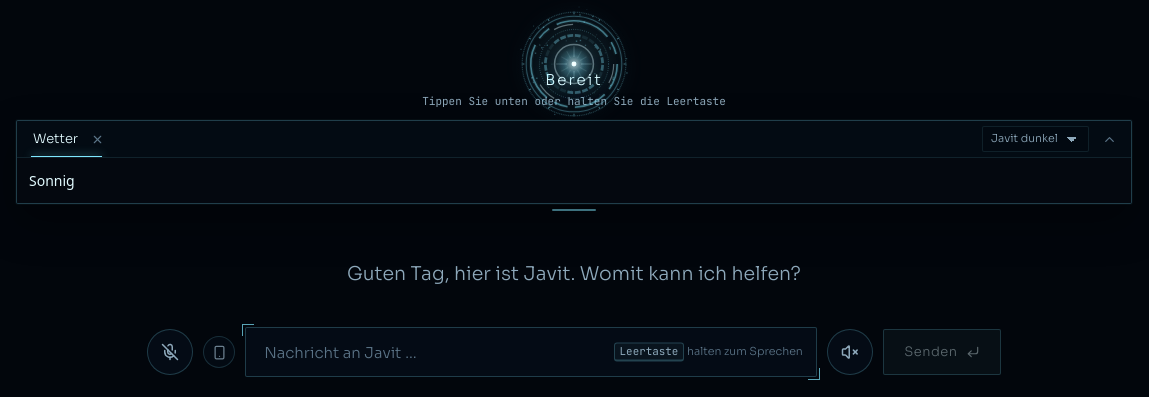
Bühne in der Konsole › einklappen blendet den Inhalt aus, Reiter bleiben
Click the button named "Bühne einklappen": [1107, 139] box left=1095, top=127, right=1119, bottom=151
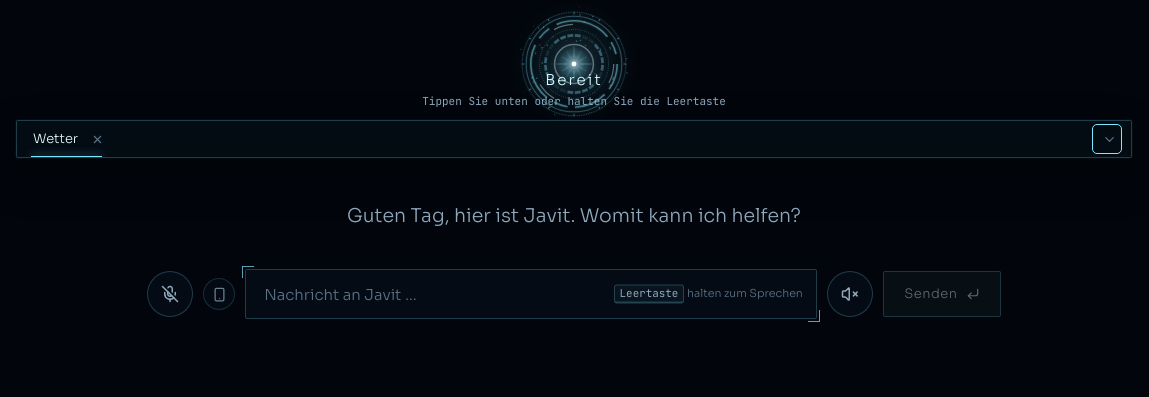
Expected: the tab "Wetter" is shown, left=21, top=121, right=84, bottom=157
Expected: the text "Sonnig" is gone
Click the button named "Bühne ausklappen": [1107, 139] box left=1095, top=127, right=1119, bottom=151
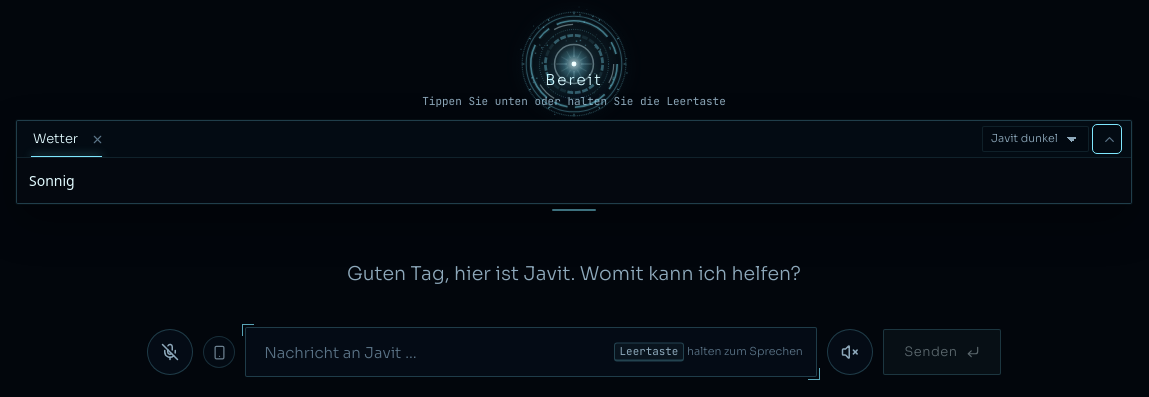
Expected: the text "Sonnig" is shown, left=29, top=171, right=75, bottom=190
